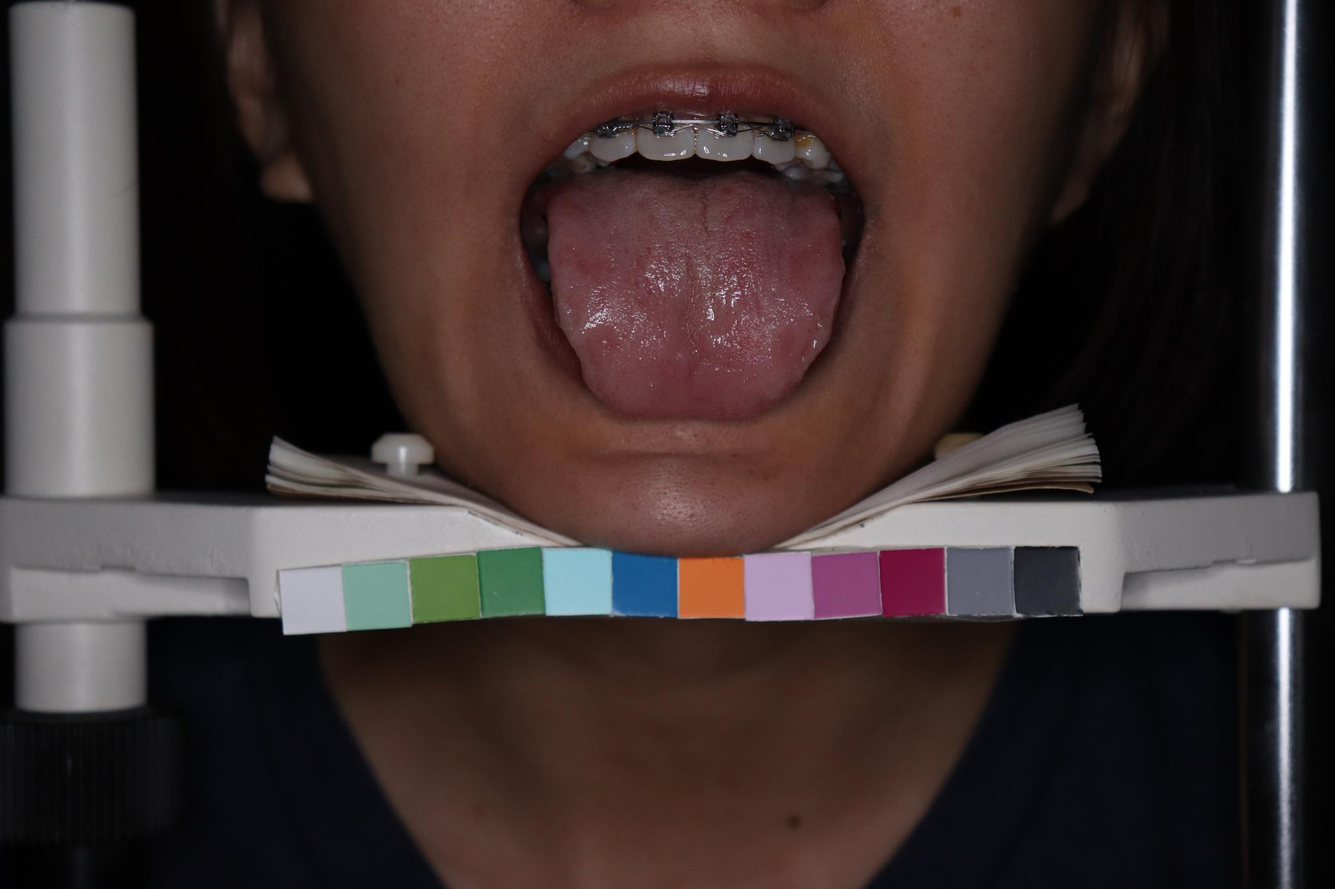baitaishe: (546, 171, 845, 421)
